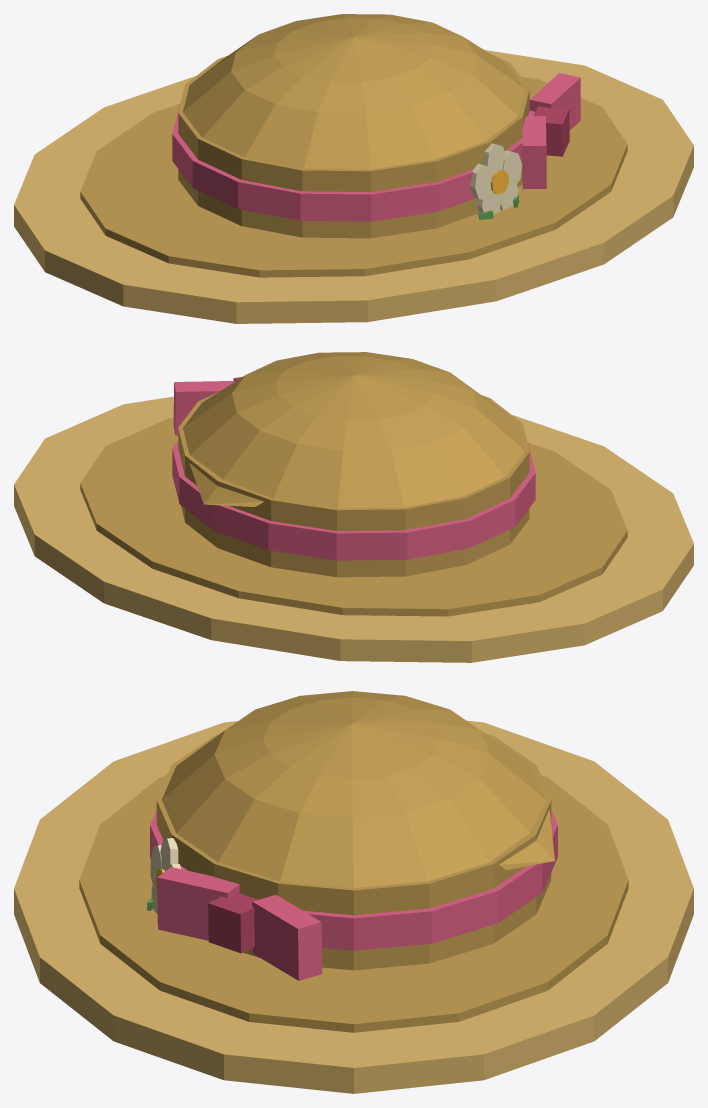
Rendered from SummerHat.glb.
The picture shows the model from 3 angles, top to bottom: view 1: azimuth 30°, elevation 25°; view 2: azimuth 150°, elevation 25°; view 3: azimuth 270°, elevation 25°; orthographic projection. The views are drawn at different scales.
Parts seen in each view (by area): view 1: SummerHat_wide_brim_flat_faceted, SummerHat_low_poly_crown_top, SummerHat_inner_brim_highlight, SummerHat_low_poly_crown_base, SummerHat_ribbon_band, SummerHat_bow_left_loop, SummerHat_bow_right_loop, SummerHat_bow_knot, SummerHat_flower_petal_2, SummerHat_flower_petal_5, SummerHat_flower_petal_1; view 2: SummerHat_wide_brim_flat_faceted, SummerHat_low_poly_crown_top, SummerHat_inner_brim_highlight, SummerHat_low_poly_crown_base, SummerHat_ribbon_band, SummerHat_bow_right_loop; view 3: SummerHat_wide_brim_flat_faceted, SummerHat_low_poly_crown_top, SummerHat_inner_brim_highlight, SummerHat_low_poly_crown_base, SummerHat_ribbon_band, SummerHat_bow_right_loop, SummerHat_bow_left_loop, SummerHat_bow_knot.
Part boxes in pixels (x1=…): SummerHat_wide_brim_flat_faceted: x1=14, y1=50, x2=693, y2=323; SummerHat_low_poly_crown_top: x1=183, y1=14, x2=524, y2=169; SummerHat_inner_brim_highlight: x1=80, y1=76, x2=627, y2=277; SummerHat_low_poly_crown_base: x1=178, y1=53, x2=529, y2=238; SummerHat_ribbon_band: x1=172, y1=105, x2=534, y2=221; SummerHat_bow_left_loop: x1=522, y1=116, x2=546, y2=189; SummerHat_bow_right_loop: x1=529, y1=73, x2=580, y2=130; SummerHat_bow_knot: x1=534, y1=106, x2=569, y2=156; SummerHat_flower_petal_2: x1=470, y1=163, x2=493, y2=200; SummerHat_flower_petal_5: x1=502, y1=150, x2=522, y2=187; SummerHat_flower_petal_1: x1=482, y1=143, x2=506, y2=174; SummerHat_wide_brim_flat_faceted: x1=14, y1=396, x2=693, y2=662; SummerHat_low_poly_crown_top: x1=183, y1=352, x2=524, y2=508; SummerHat_inner_brim_highlight: x1=80, y1=417, x2=627, y2=616; SummerHat_low_poly_crown_base: x1=178, y1=392, x2=529, y2=577; SummerHat_ribbon_band: x1=172, y1=440, x2=535, y2=560; SummerHat_bow_right_loop: x1=173, y1=381, x2=235, y2=435; SummerHat_wide_brim_flat_faceted: x1=14, y1=720, x2=693, y2=1093; SummerHat_low_poly_crown_top: x1=162, y1=691, x2=554, y2=887; SummerHat_inner_brim_highlight: x1=79, y1=775, x2=628, y2=1032; SummerHat_low_poly_crown_base: x1=156, y1=733, x2=551, y2=970; SummerHat_ribbon_band: x1=150, y1=810, x2=557, y2=950; SummerHat_bow_right_loop: x1=252, y1=895, x2=322, y2=980; SummerHat_bow_left_loop: x1=157, y1=867, x2=239, y2=940; SummerHat_bow_knot: x1=208, y1=892, x2=258, y2=953.
Size of the model in its own units: 3.56 by 0.883 by 2.85.
